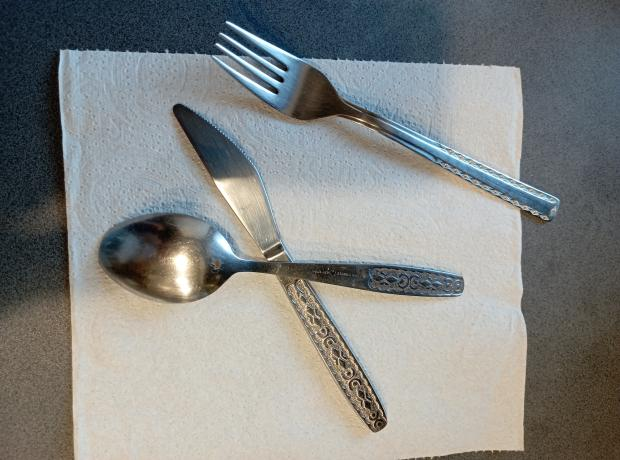metal: (172, 102, 389, 433), (212, 19, 562, 224), (99, 212, 465, 307)
